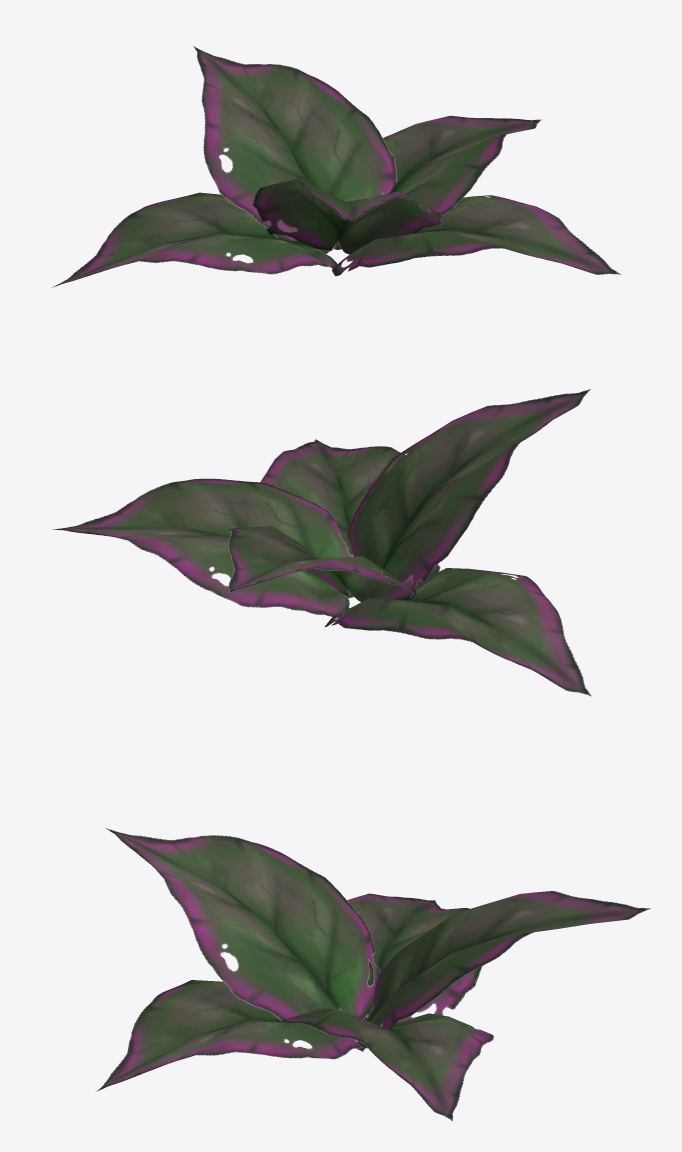
File: Plant3.fbx
3 renders of one model, top to bottom at view 1: azimuth 30°, elevation 25°; view 2: azimuth 150°, elevation 25°; view 3: azimuth 270°, elevation 25°, orthographic. The views are drawn at different scales.
Parts seen in each view (by area): view 1: Plane.006; view 2: Plane.006; view 3: Plane.006.
Part boxes in pixels (x1,y1,x2,y2): Plane.006: (51,46,620,287); Plane.006: (52,389,591,696); Plane.006: (96,828,650,1121).
Bounding box in the file's own units: 4.16 × 3.84 × 1.27.
